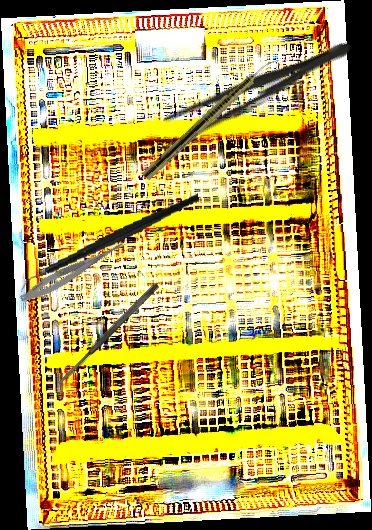Chopper: (12, 191, 208, 298)
Dressing Forceps: (148, 28, 358, 156)
Handpiece: (141, 51, 281, 183)
Micro Scissor: (17, 230, 134, 309)
Spatula Surgical: (55, 281, 161, 387)
